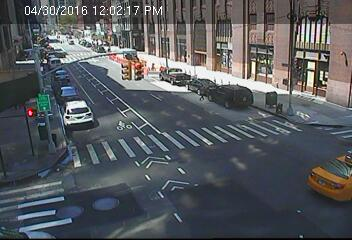neg: (290, 52, 340, 119), (180, 160, 221, 214), (303, 170, 340, 219), (3, 1, 39, 49), (136, 98, 171, 143), (133, 155, 167, 200), (8, 83, 41, 128), (74, 176, 105, 217), (272, 132, 302, 171), (99, 41, 126, 77), (228, 151, 255, 187), (156, 44, 181, 77), (38, 102, 62, 134), (193, 97, 215, 125), (93, 95, 114, 124), (51, 29, 72, 56), (84, 19, 99, 39), (41, 7, 53, 24)
